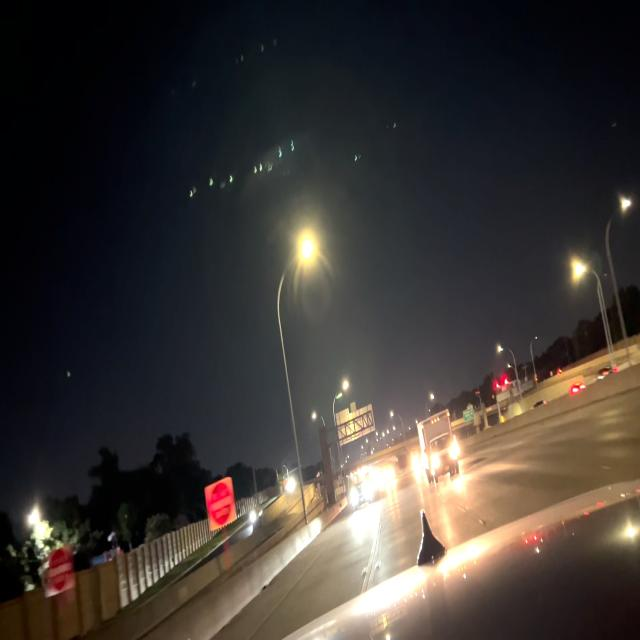back-of-sign: (335, 400, 376, 446)
